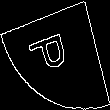P_E: (31, 30, 79, 80)
